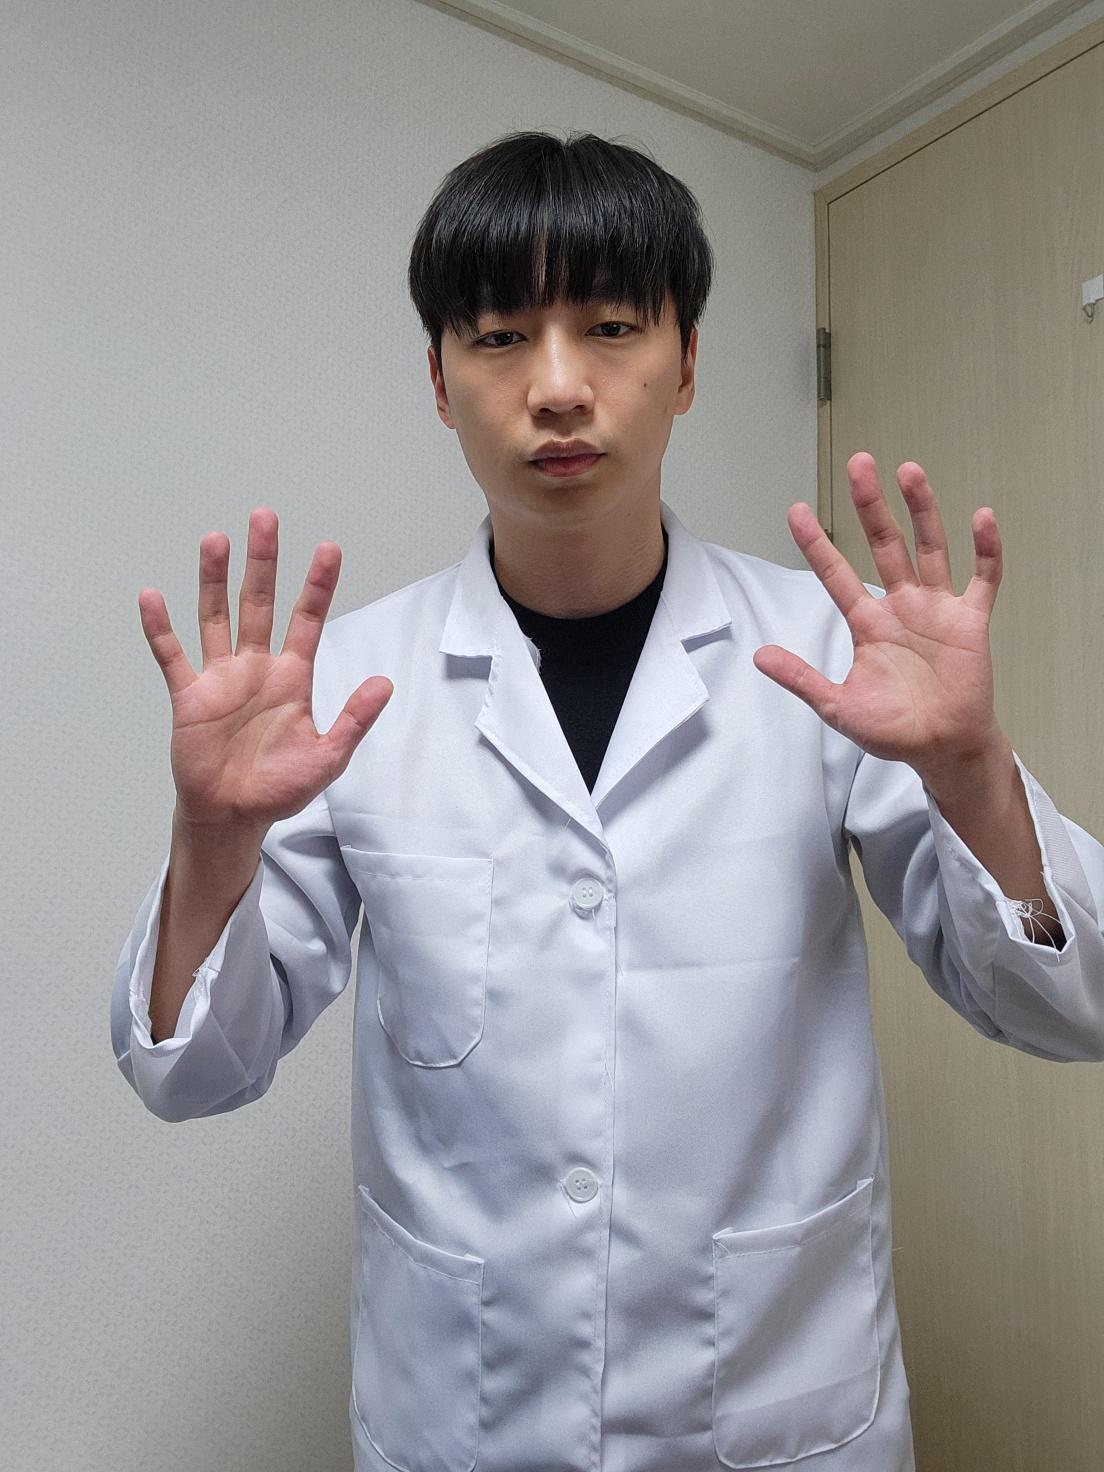lab_coat: (112, 512, 1102, 1471)
